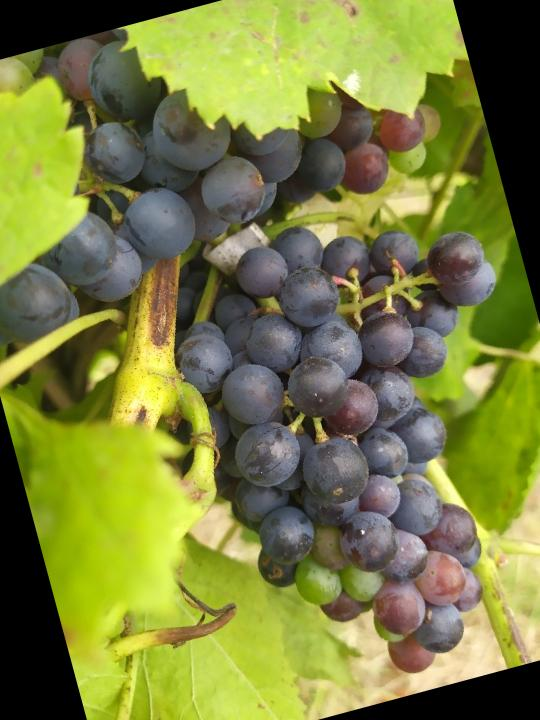grape: (133, 180, 540, 720)
